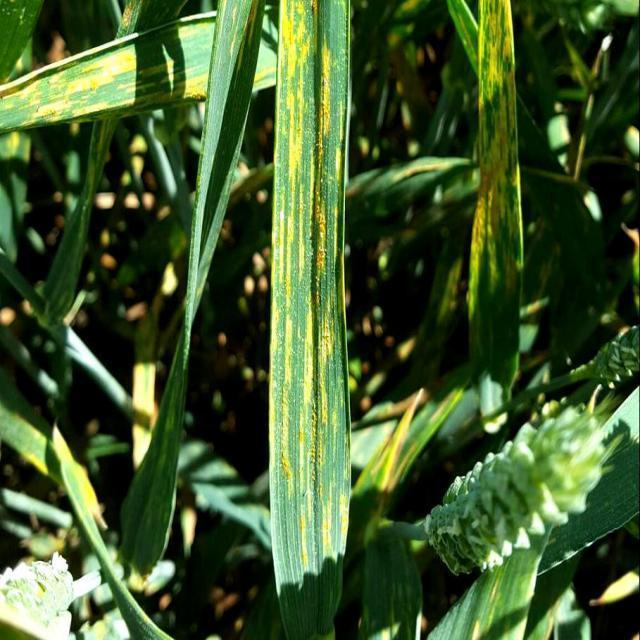Yellow_Rust: (270, 0, 350, 638), (0, 0, 213, 135), (470, 0, 522, 415)
